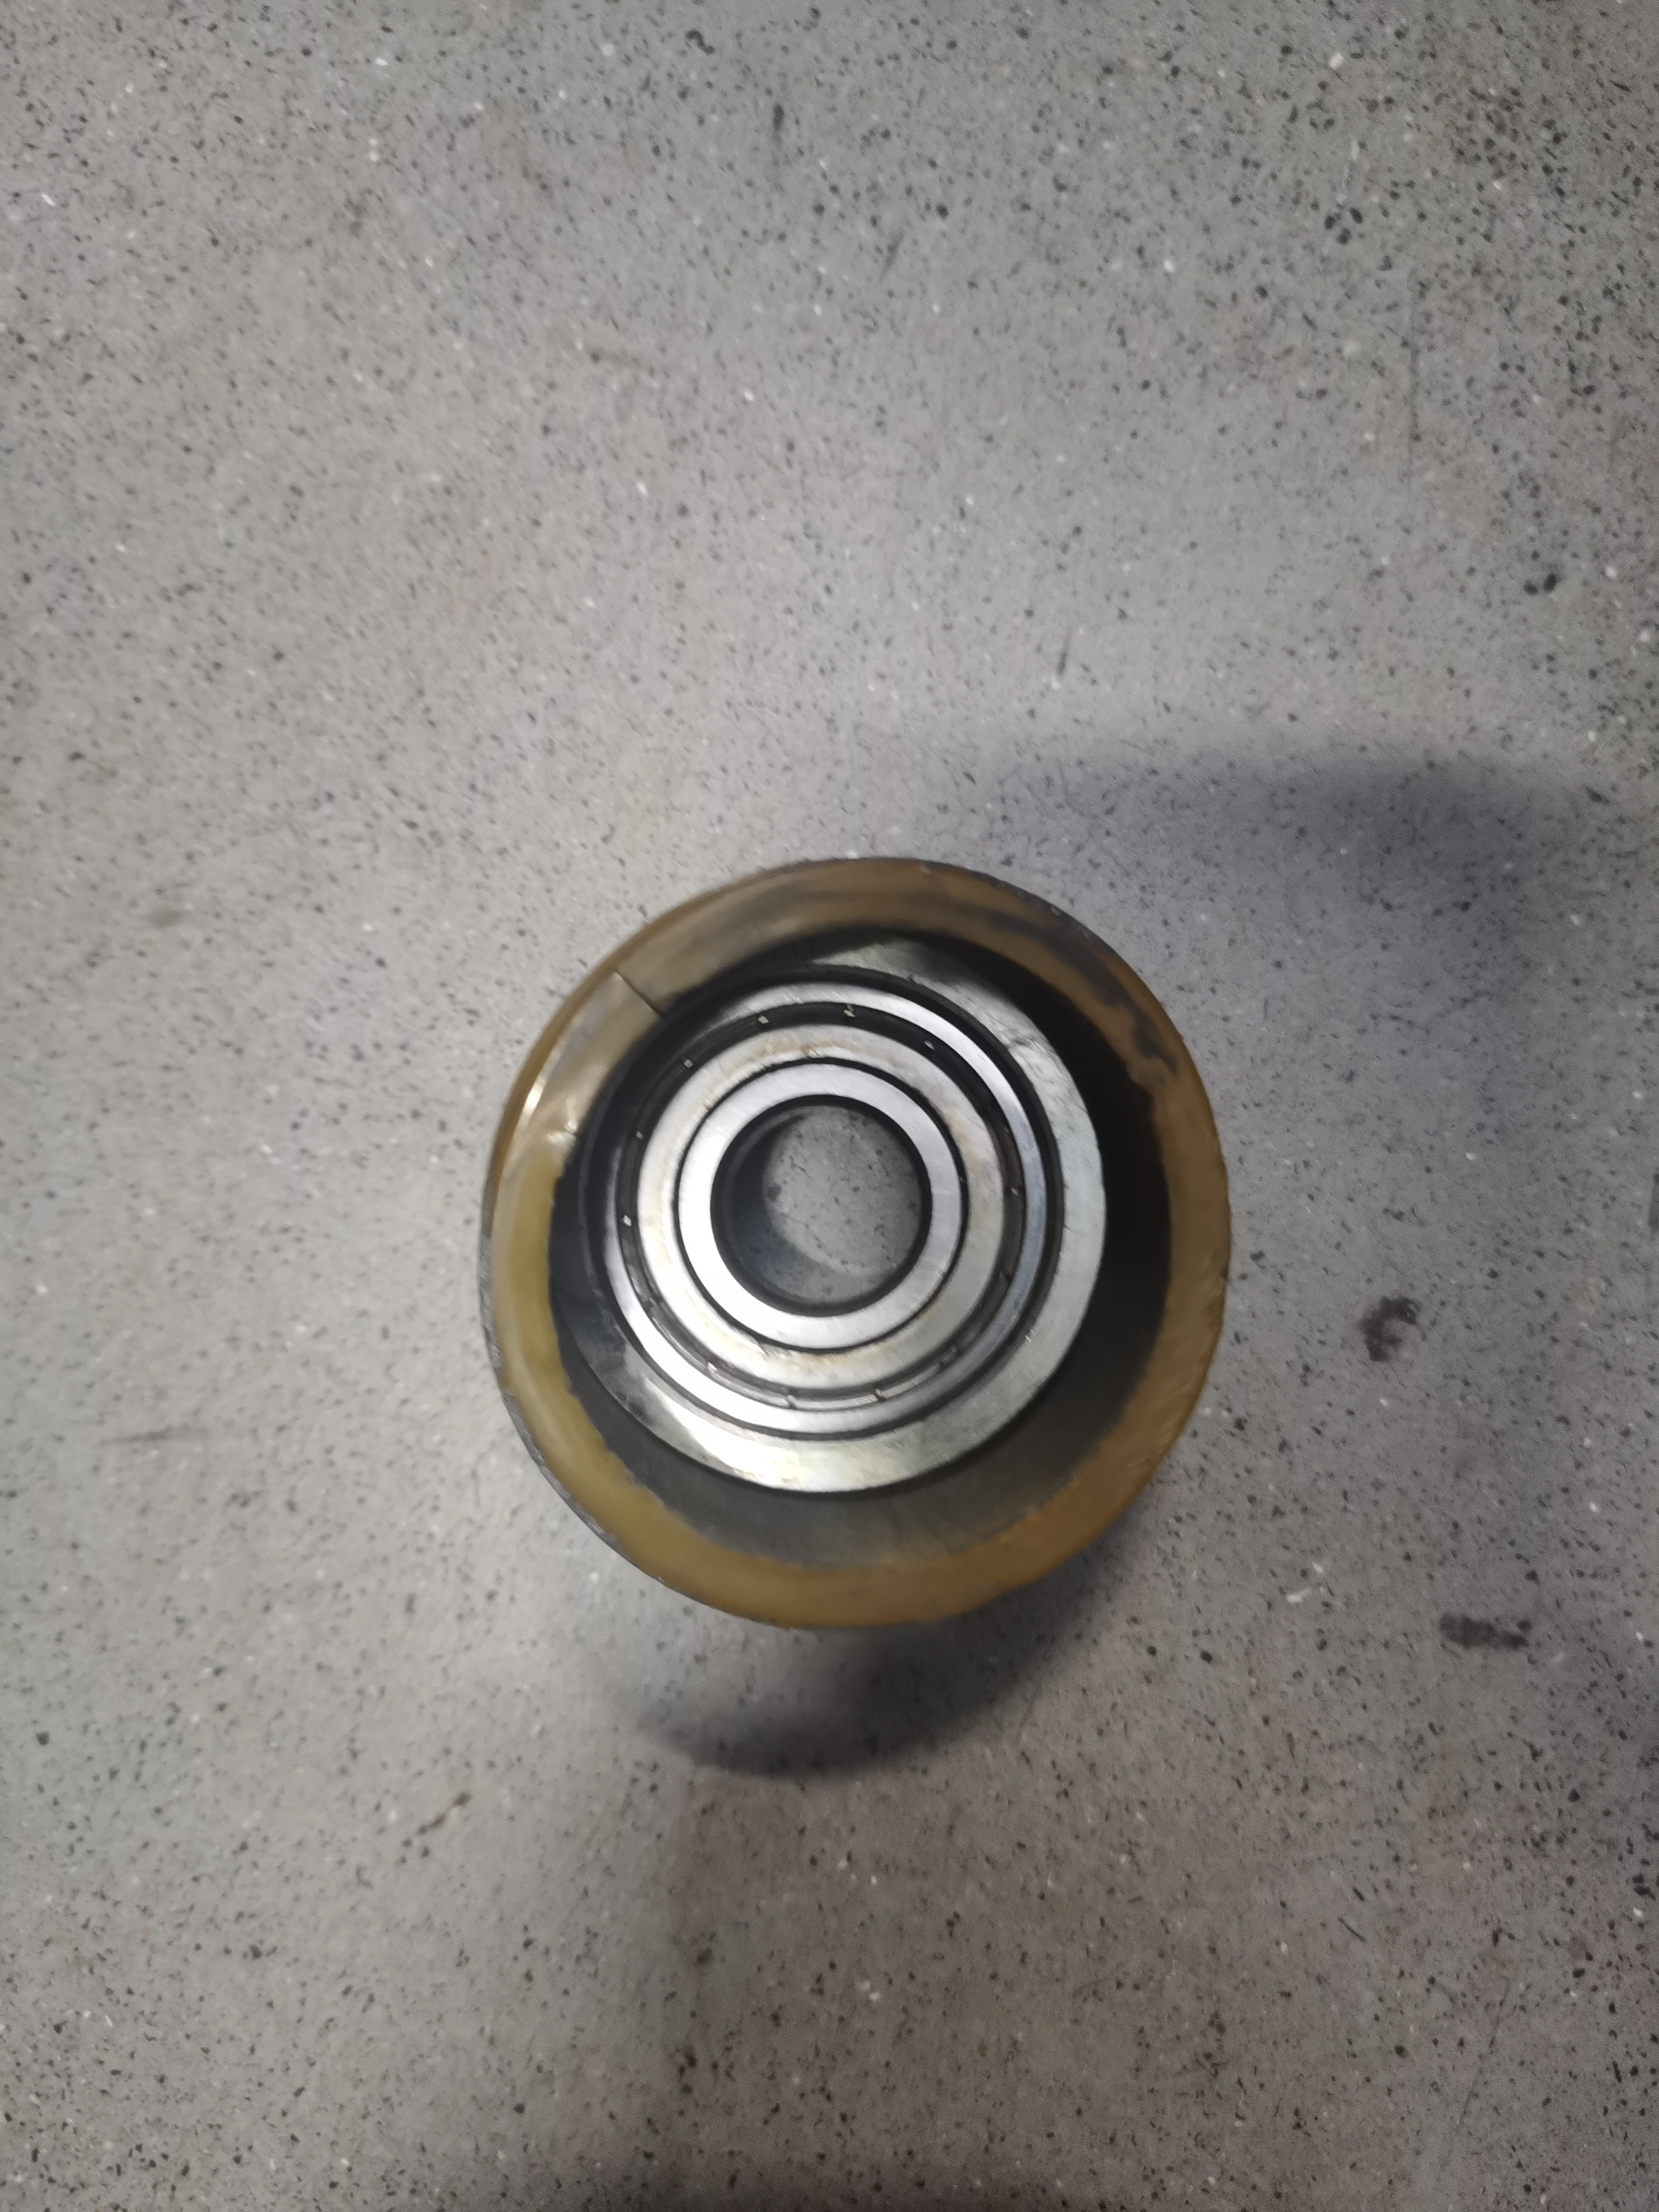bad_wheel: (347, 754, 1302, 1665)
